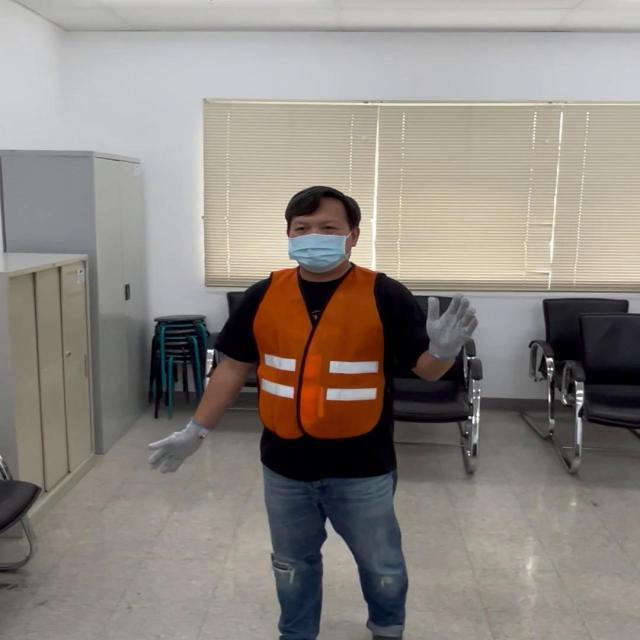gloved_hand: (418, 288, 474, 356), (151, 419, 209, 478)
